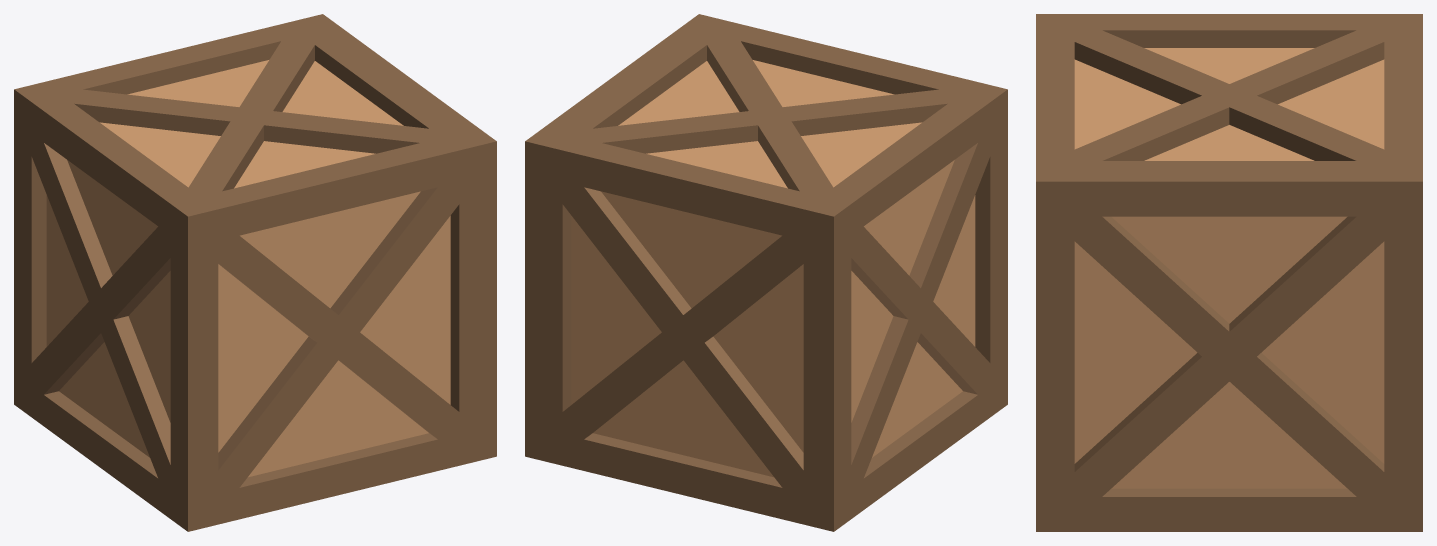
Rendered from crate.glb.
3 views of the same model, side by side, from view 1: azimuth 30°, elevation 25°; view 2: azimuth 150°, elevation 25°; view 3: azimuth 270°, elevation 25° (orthographic). The views are drawn at different scales.
Parts seen in each view (by area): view 1: side pannels, Cube; view 2: side pannels, Cube; view 3: side pannels, Cube.
Boxes of the visible parts, left/top/right/bottom form: side pannels: left=14, top=14, right=496, bottom=531; Cube: left=46, top=60, right=450, bottom=477; side pannels: left=525, top=14, right=1007, bottom=531; Cube: left=571, top=60, right=975, bottom=477; side pannels: left=1036, top=14, right=1422, bottom=531; Cube: left=1074, top=48, right=1384, bottom=488.
Size of the model in its own units: 2.05 by 2 by 2.
